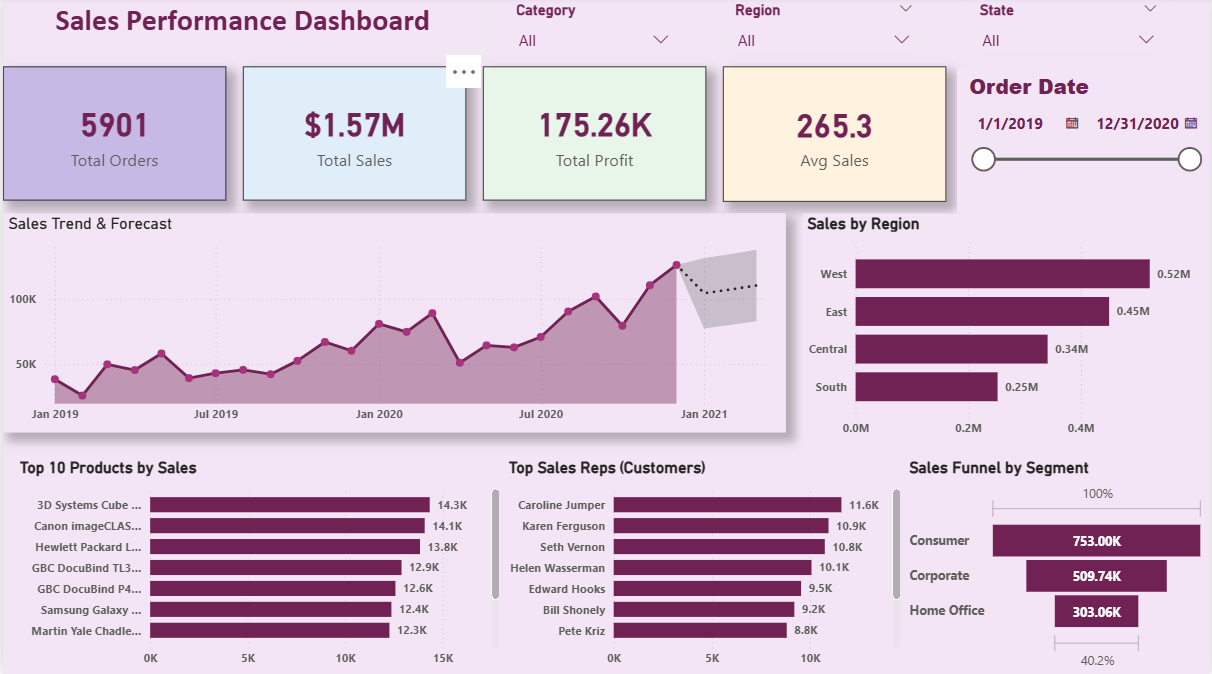

Layout of this report page (visuals, bound fields, positions):
{"tool":"powerbi","page":{"name":"Page 1","canvas":[1280,720],"ordinal":0},"visuals":[{"type":"card","fields":{"Values":["SuperStore_Sales_Dataset.Total Orders"]},"box":[0,75,236.7,141.7],"z":0},{"type":"card","fields":{"Values":["SuperStore_Sales_Dataset.Total Sales"]},"box":[254.4,75,236.7,141.7],"z":1000},{"type":"card","fields":{"Values":["SuperStore_Sales_Dataset.Total Profit"]},"box":[508.9,75,236.7,141.7],"z":2000},{"type":"card","fields":{"Values":["SuperStore_Sales_Dataset.Avg Sales"]},"box":[763.3,75,236.7,143.3],"z":3000},{"type":"lineChart","title":"Sales Trend & Forecast","fields":{"Y":["Sum(SuperStore_Sales_Dataset.Sales)"],"Category":["SuperStore_Sales_Dataset.Order Date.Variation.Date Hierarchy.Year","SuperStore_Sales_Dataset.Order Date.Variation.Date Hierarchy.Month"]},"box":[0,230,830,231.7],"z":4000},{"type":"clusteredBarChart","title":"Sales by Region","fields":{"Category":["SuperStore_Sales_Dataset.Region"],"Y":["Sum(SuperStore_Sales_Dataset.Sales)"]},"box":[848.3,230,431.7,245],"z":5000},{"type":"textbox","box":[0,0,508.3,60],"z":8000},{"type":"slicer","fields":{"Values":["SuperStore_Sales_Dataset.Region"]},"box":[763.3,0,213.3,61.7],"z":9000},{"type":"slicer","fields":{"Values":["SuperStore_Sales_Dataset.Category"]},"box":[531.7,0,190,60],"z":10000},{"type":"slicer","fields":{"Values":["SuperStore_Sales_Dataset.Order Date"]},"box":[1011.7,75,268.3,155],"z":10001},{"type":"clusteredBarChart","title":"Top 10 Products by Sales","fields":{"Category":["SuperStore_Sales_Dataset.Product Name"],"Y":["Sum(SuperStore_Sales_Dataset.Sales)"]},"box":[13.3,490,518.3,230],"z":10002},{"type":"clusteredBarChart","title":"Top Sales Reps (Customers)","fields":{"Category":["SuperStore_Sales_Dataset.Customer Name"],"Y":["Sum(SuperStore_Sales_Dataset.Sales)"]},"box":[531.7,490,425,230],"z":10003},{"type":"funnel","title":"Sales Funnel by Segment","fields":{"Category":["SuperStore_Sales_Dataset.Segment"],"Y":["Sum(SuperStore_Sales_Dataset.Sales)"]},"box":[956.7,490,323.3,230],"z":10004},{"type":"slicer","fields":{"Values":["SuperStore_Sales_Dataset.State"]},"box":[1023.3,0,213.3,61.7],"z":10005}]}

Visuals, with their boxes in screenshot pixels (x1, y1, x2, y2), scaled from the page's 1280x720 canvas onto the 1212x674 screenshot:
card - SuperStore_Sales_Dataset.Total Orders: box=[0, 70, 224, 203]
card - SuperStore_Sales_Dataset.Total Sales: box=[241, 70, 465, 203]
card - SuperStore_Sales_Dataset.Total Profit: box=[482, 70, 706, 203]
card - SuperStore_Sales_Dataset.Avg Sales: box=[723, 70, 947, 204]
"Sales Trend & Forecast" lineChart: box=[0, 215, 786, 432]
"Sales by Region" clusteredBarChart: box=[803, 215, 1211, 445]
textbox: box=[0, 0, 481, 56]
slicer - SuperStore_Sales_Dataset.Region: box=[723, 0, 925, 58]
slicer - SuperStore_Sales_Dataset.Category: box=[503, 0, 683, 56]
slicer - SuperStore_Sales_Dataset.Order Date: box=[958, 70, 1211, 215]
"Top 10 Products by Sales" clusteredBarChart: box=[13, 459, 503, 673]
"Top Sales Reps (Customers)" clusteredBarChart: box=[503, 459, 906, 673]
"Sales Funnel by Segment" funnel: box=[906, 459, 1211, 673]
slicer - SuperStore_Sales_Dataset.State: box=[969, 0, 1171, 58]
